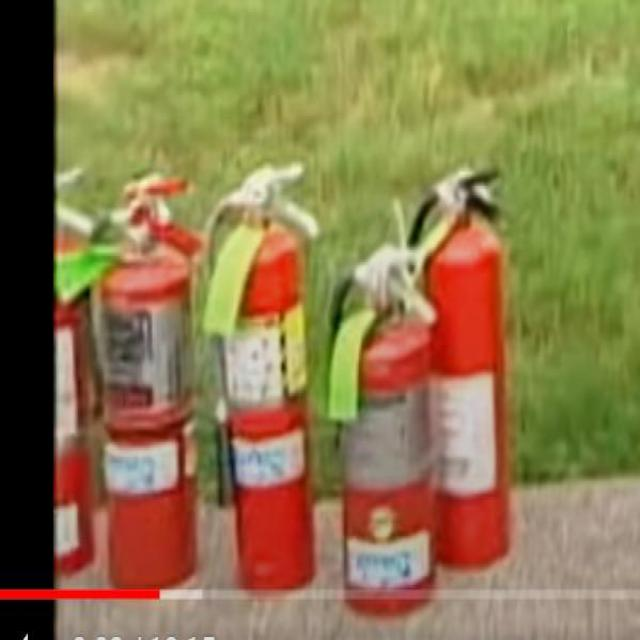fire_extinguisher: (199, 153, 321, 596), (91, 167, 205, 602), (398, 169, 514, 577), (319, 232, 440, 618), (45, 162, 101, 584)
